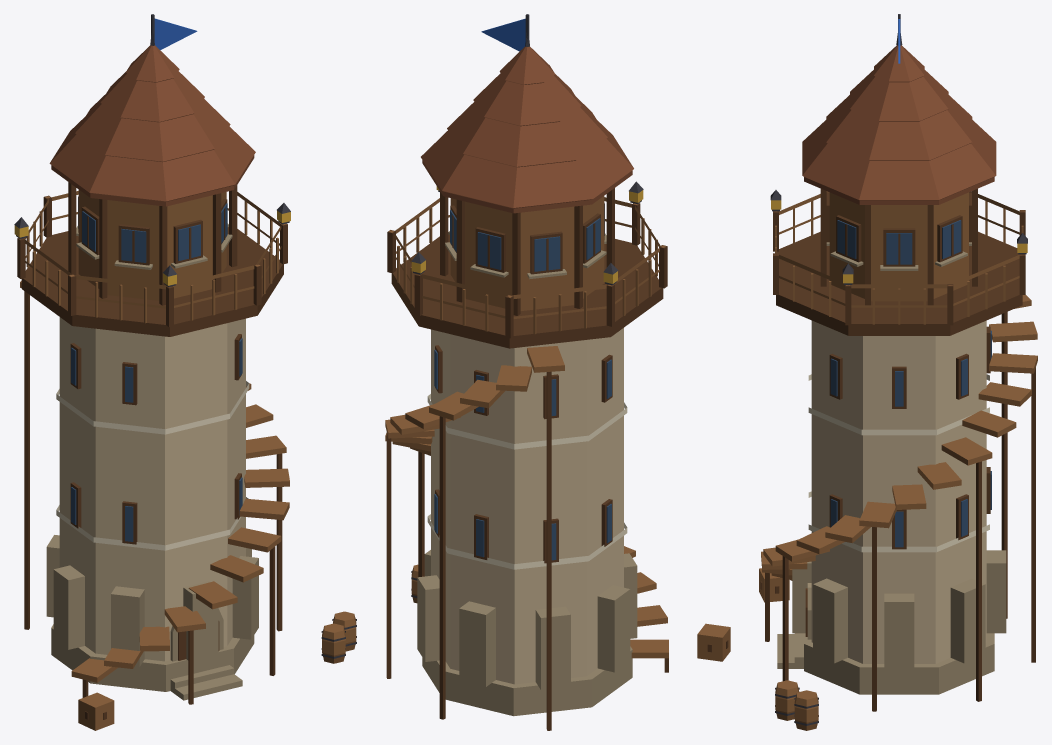
Rendered from Watchtower.fbx.
3 views of the same model, side by side, from view 1: azimuth 30°, elevation 25°; view 2: azimuth 150°, elevation 25°; view 3: azimuth 270°, elevation 25° (orthographic). The views are drawn at different scales.
Parts seen in each view (by area): view 1: Watchtower; view 2: Watchtower; view 3: Watchtower.
Boxes of the visible parts, left/top/right/bottom form: Watchtower: left=14, top=14, right=356, bottom=730; Watchtower: left=385, top=14, right=730, bottom=730; Watchtower: left=759, top=14, right=1037, bottom=730.
Size of the model in its own units: 7.84 by 16.4 by 6.47.
